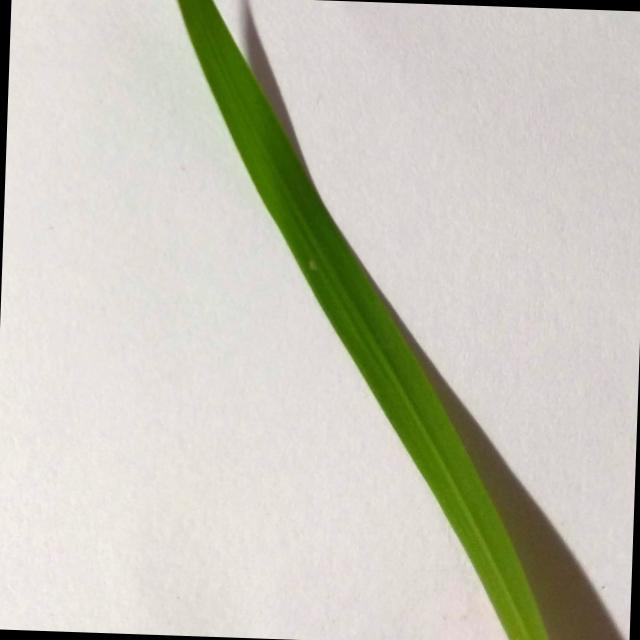Rice_Healthy: (177, 0, 549, 640)
